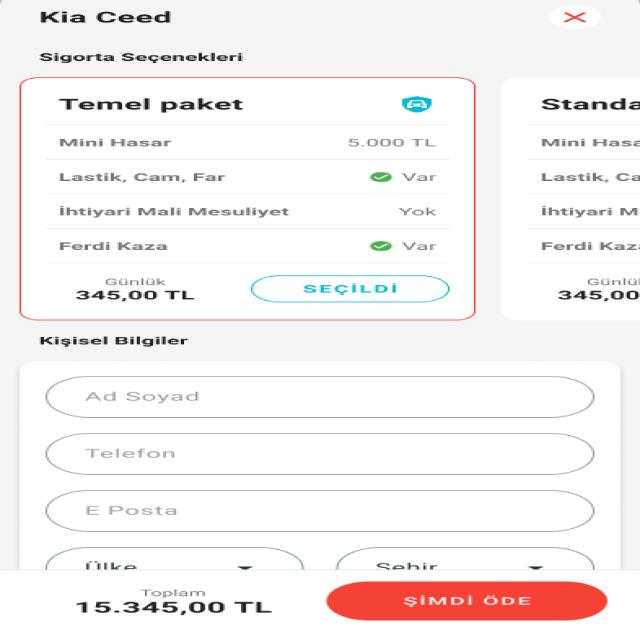QLabel: (53, 95, 247, 114), (54, 204, 290, 218), (32, 51, 248, 65), (31, 332, 190, 350), (75, 601, 270, 615), (34, 9, 176, 24), (525, 95, 640, 113), (52, 172, 229, 183), (397, 594, 535, 608), (50, 137, 176, 149), (70, 289, 196, 301), (299, 283, 403, 296), (534, 205, 639, 217), (53, 241, 173, 251), (535, 171, 640, 182), (536, 137, 640, 147), (537, 240, 640, 250), (555, 289, 640, 301), (349, 138, 441, 148), (98, 276, 167, 288), (137, 588, 208, 598), (586, 276, 640, 286), (398, 172, 438, 184), (397, 207, 438, 216), (400, 242, 438, 250)
VBtn: (327, 581, 608, 621), (250, 275, 450, 303)
VCard: (18, 360, 624, 570), (15, 75, 479, 323), (496, 74, 640, 323)
VCombobox: (44, 546, 306, 570), (338, 547, 594, 570)
VDivider: (37, 157, 463, 163), (36, 191, 457, 197), (39, 260, 460, 266), (40, 226, 454, 231), (41, 122, 453, 127), (523, 260, 640, 266), (526, 122, 640, 128), (524, 157, 640, 162), (522, 226, 640, 230), (523, 192, 640, 196)
VFooter: (0, 570, 640, 640)
VIcon: (550, 4, 604, 30), (400, 96, 432, 112), (368, 240, 392, 252), (369, 172, 393, 182)
VTextField: (45, 431, 597, 477), (45, 374, 594, 420), (45, 488, 596, 533)
